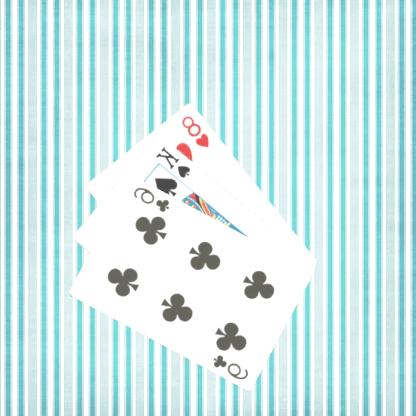6C: (132, 184, 173, 214), (211, 352, 252, 380)
8H: (180, 112, 212, 148)
KS: (155, 143, 194, 179)
